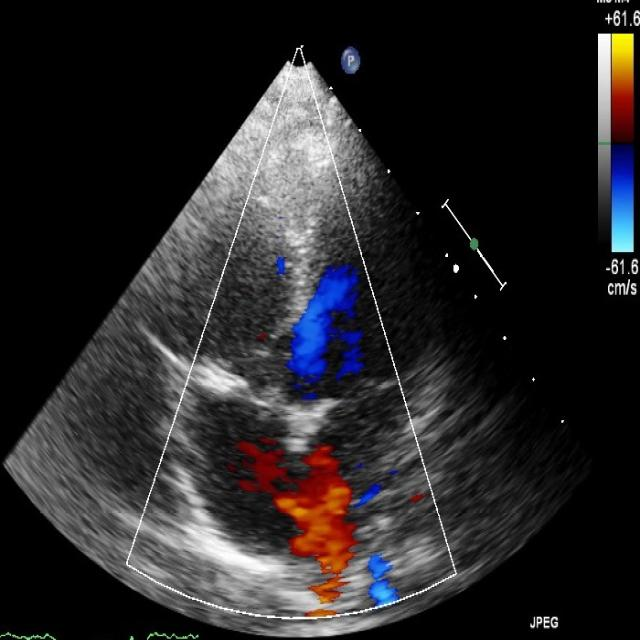ASDType2: (279, 455, 360, 558)
